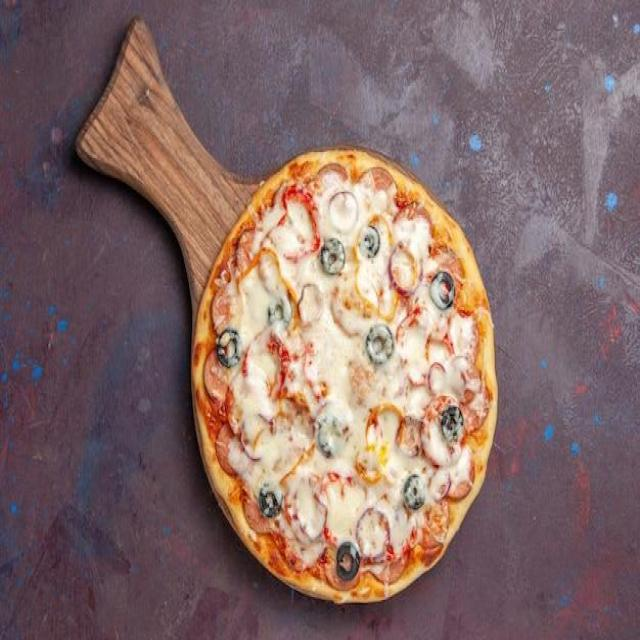olive: (215, 325, 242, 368), (366, 324, 393, 366), (316, 416, 342, 458), (320, 236, 346, 278), (428, 270, 455, 310), (336, 542, 360, 580), (258, 483, 283, 517), (442, 404, 464, 442), (266, 295, 290, 329), (404, 474, 426, 511), (358, 226, 379, 258), (381, 464, 402, 489)
pepperoni: (458, 379, 490, 432), (445, 448, 477, 500), (215, 423, 244, 478), (432, 248, 463, 298), (392, 203, 432, 241), (325, 548, 360, 589), (203, 348, 228, 398), (356, 167, 396, 196), (372, 554, 409, 585), (242, 494, 270, 534), (212, 290, 236, 334), (312, 164, 350, 183)
pizza: (192, 144, 498, 605)
